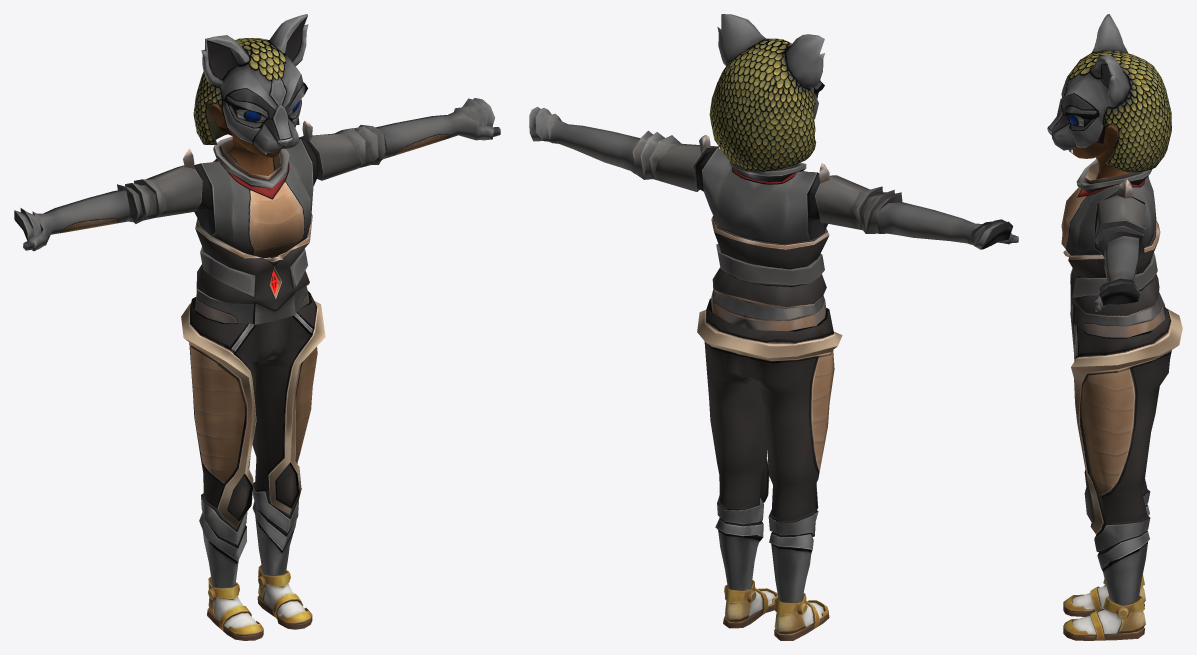
File: TestNPCs_02.glb
3 renders of one model, left to right at view 1: azimuth 30°, elevation 25°; view 2: azimuth 150°, elevation 25°; view 3: azimuth 270°, elevation 25°, orthographic.
Visible parts, largest first — view 1: F_upperbody, F_LOWERDOBY_antares, F_Bastet_Helmet, F_Canopus_Feet; view 2: F_upperbody, F_LOWERDOBY_antares, F_Bastet_Helmet, F_Canopus_Feet; view 3: F_LOWERDOBY_antares, F_upperbody, F_Bastet_Helmet, F_Canopus_Feet.
Part boxes in pixels (x1,y1,x2,y2): F_upperbody: [14, 98, 500, 324]; F_LOWERDOBY_antares: [181, 291, 325, 587]; F_Bastet_Helmet: [193, 14, 308, 175]; F_Canopus_Feet: [207, 565, 312, 640]; F_upperbody: [529, 106, 1018, 330]; F_LOWERDOBY_antares: [697, 298, 842, 602]; F_Bastet_Helmet: [709, 14, 824, 171]; F_Canopus_Feet: [723, 580, 829, 640]; F_LOWERDOBY_antares: [1071, 307, 1182, 605]; F_upperbody: [1061, 158, 1165, 337]; F_Bastet_Helmet: [1047, 14, 1171, 179]; F_Canopus_Feet: [1063, 574, 1145, 640].
Size of the model in its own units: 1.72 by 2.05 by 0.4304.
Materials: 6 (4 with a texture image).
